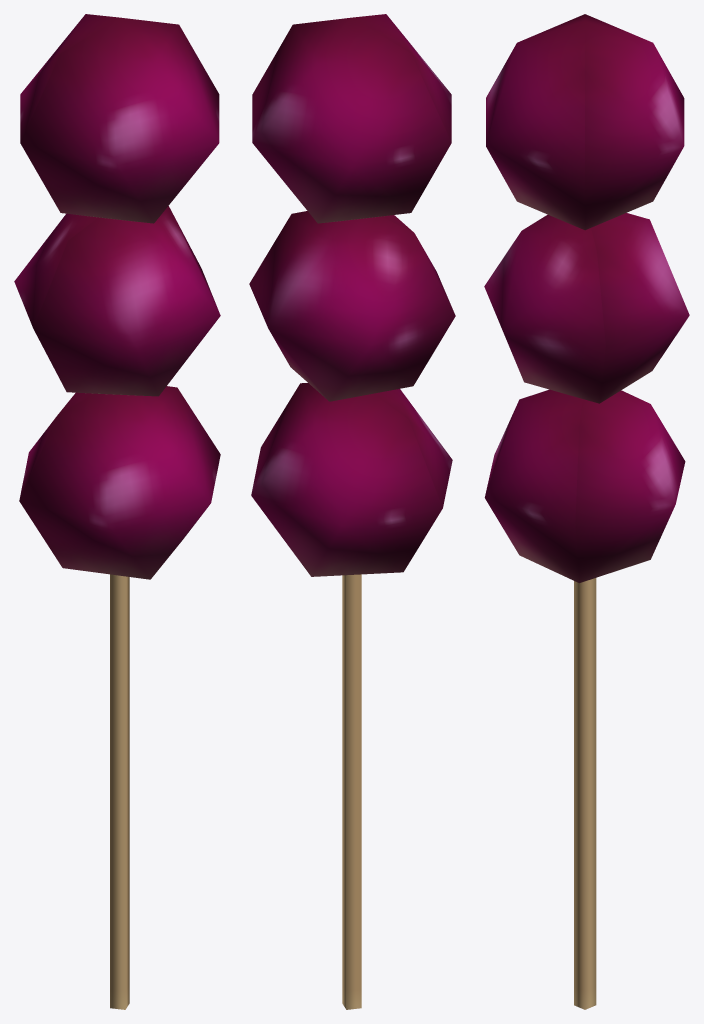
Rendered from jsf_Grape_02.fbx.
3 views of the same model, side by side, from view 1: azimuth 30°, elevation 25°; view 2: azimuth 150°, elevation 25°; view 3: azimuth 270°, elevation 25° (orthographic).
Parts seen in each view (by area): view 1: jsf_Grape_02; view 2: jsf_Grape_02; view 3: jsf_Grape_02.
Boxes of the visible parts, x1,y1,x2,y2 form: jsf_Grape_02: (14,14,220,1009); jsf_Grape_02: (249,14,455,1009); jsf_Grape_02: (484,14,689,1009).
Size of the model in its own units: 2.61 by 12.35 by 2.34.
